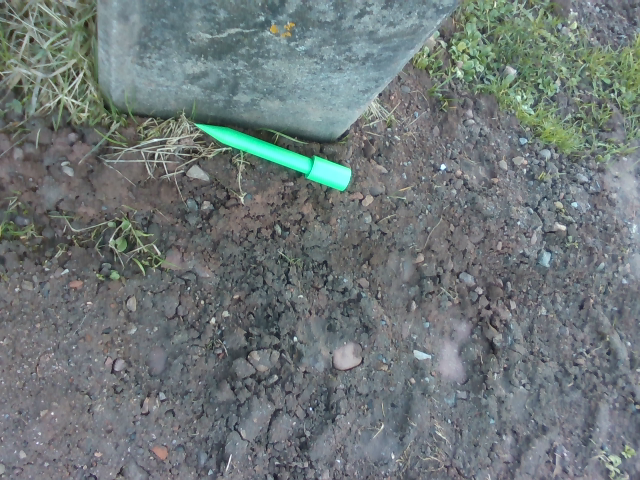Probe: (187, 116, 358, 194)
